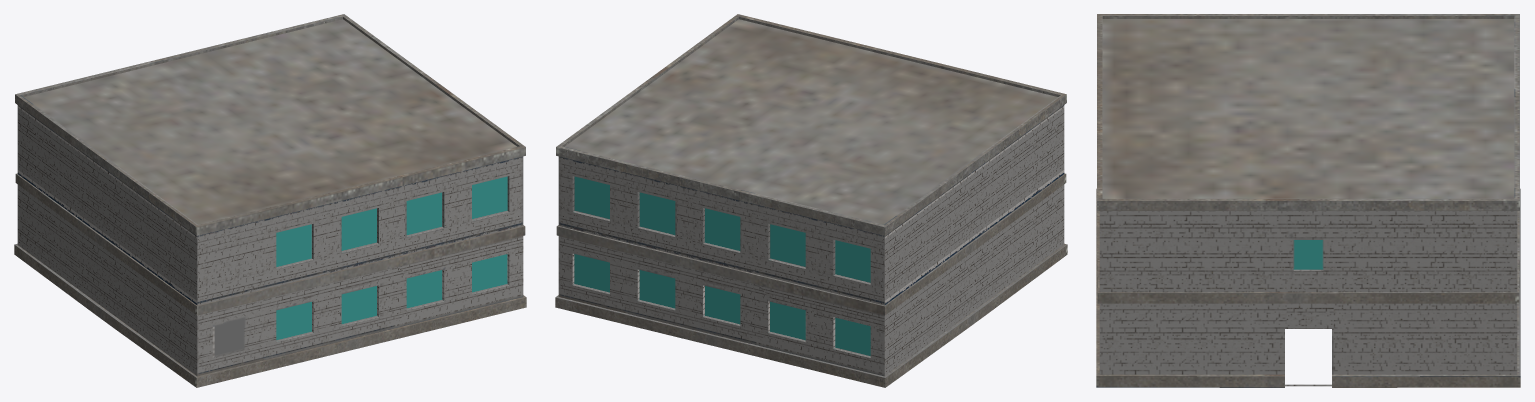
File: kazarma.glb
3 renders of one model, left to right at view 1: azimuth 30°, elevation 25°; view 2: azimuth 150°, elevation 25°; view 3: azimuth 270°, elevation 25°, orthographic. The views are drawn at different scales.
Visible parts, largest first — view 1: Box009; view 2: Box009; view 3: Box009.
Boxes of the visible parts, x1,y1,x2,y2 form: Box009: (14,14,526,387); Box009: (555,14,1067,387); Box009: (1096,14,1520,387).
Size of the model in its own units: 3.62 by 1.67 by 3.44.
Materials: 1 (1 with a texture image).
